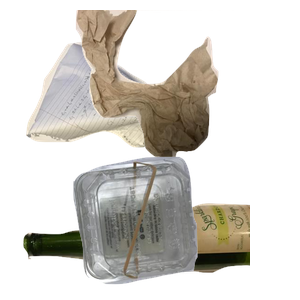glass: (21, 201, 261, 300)
paper: (23, 40, 223, 180)
plastic: (71, 154, 300, 300)
trash: (73, 10, 300, 163)
